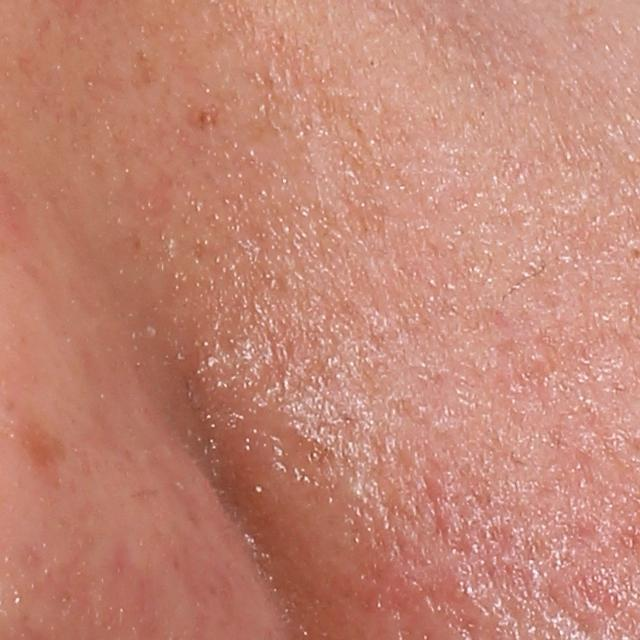melasma: (3, 401, 77, 482)
